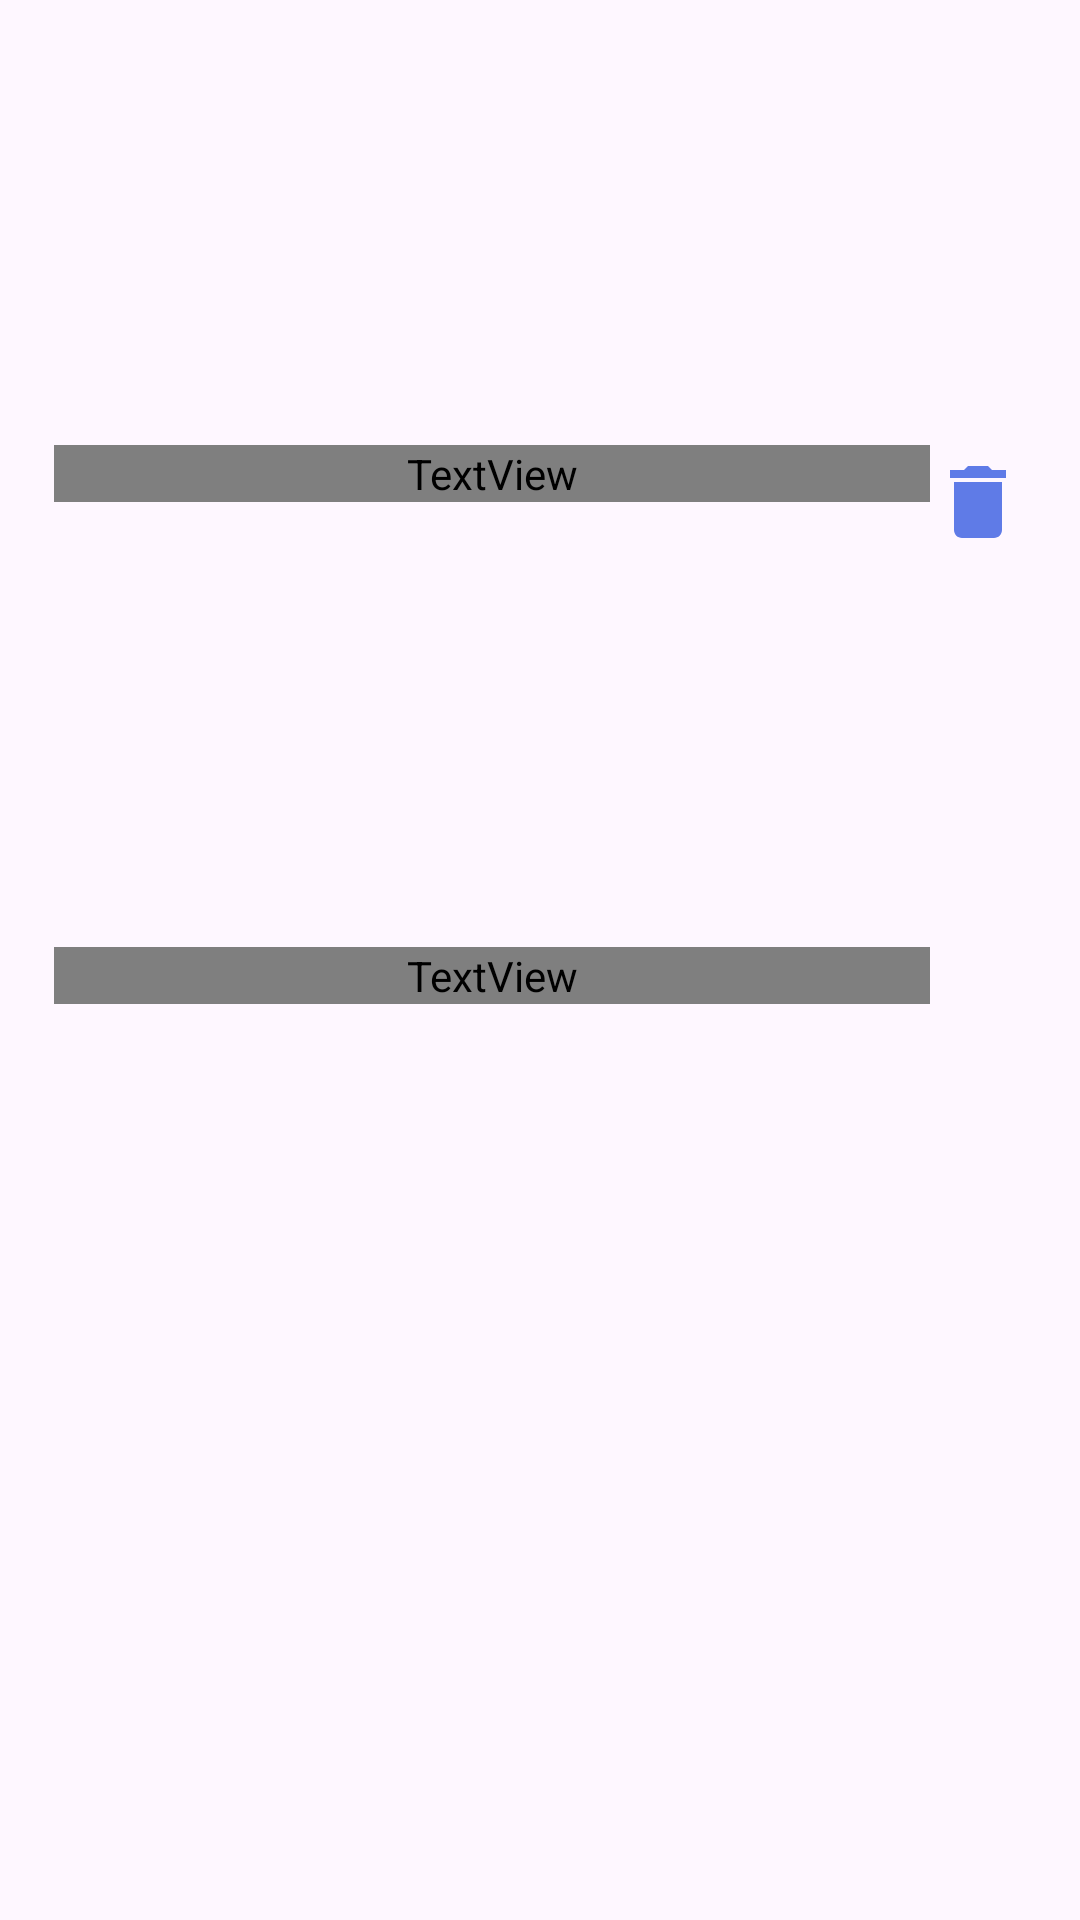

Where to tap for icons on this 1080×1920 app screen, as point (x, y):
delete: point (978, 502)
